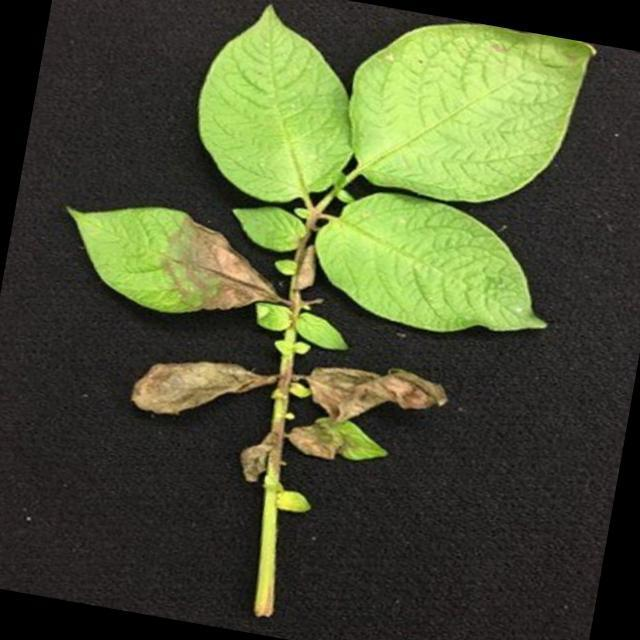Healthy Leaf: (345, 10, 589, 223), (175, 0, 371, 206), (312, 192, 568, 346)
